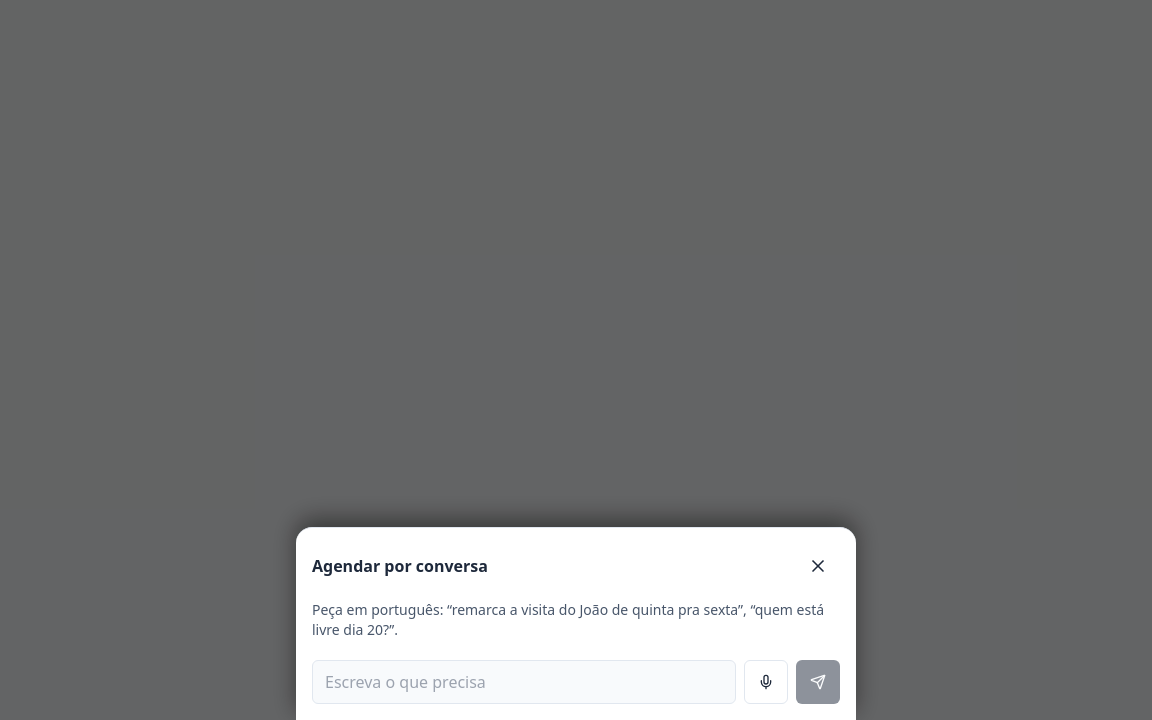
Test case: ChatAgenda › o card mostra o contexto da visita alvo, não só o id
Type "x" into the field with placeholder "Escreva o que precisa". click: coordinates (524, 682)
box: [312,660,736,704]
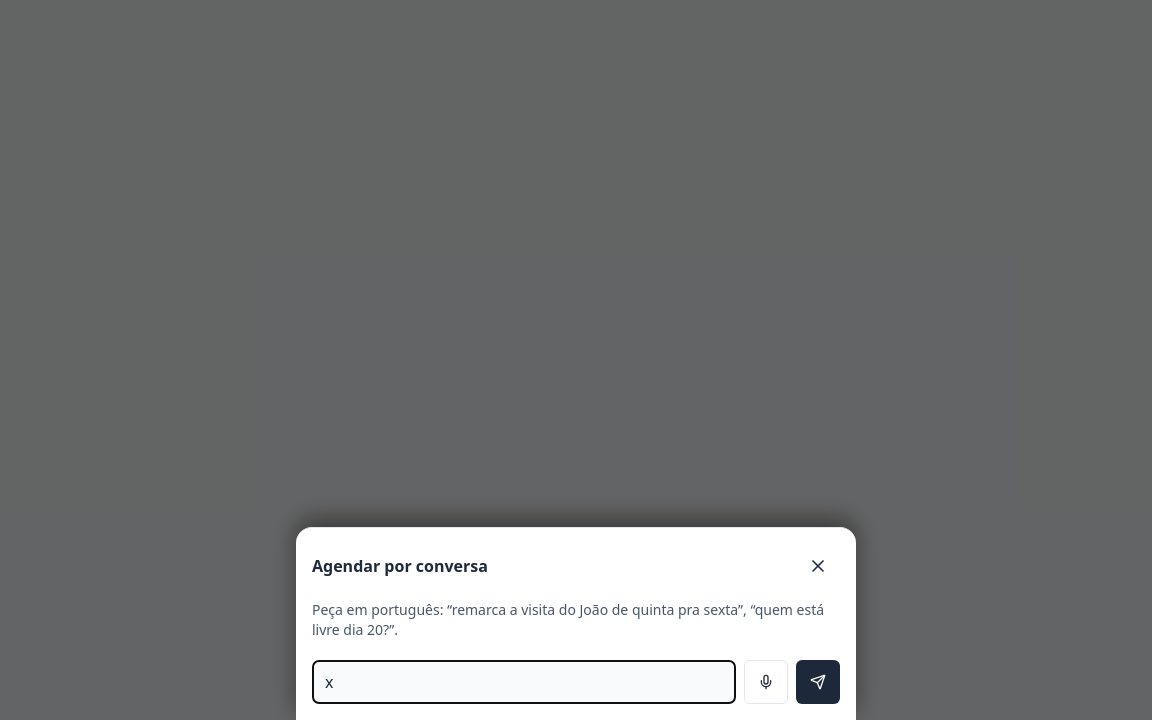
Click the button named "enviar". click: coordinates (818, 682)
box: [796,660,840,704]
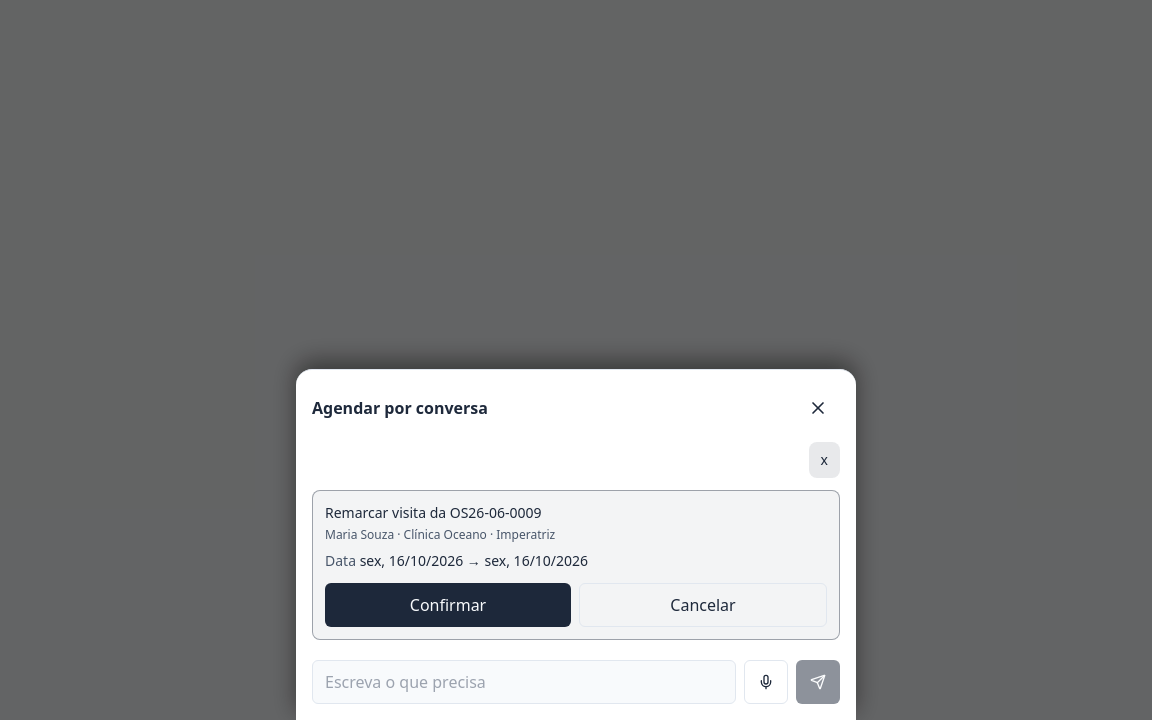
Expected: the text "Remarcar visita da OS26-06-0009" is shown, [325,503,542,522]
Expected: the text "Maria Souza · Clínica Oceano · Imperatriz" is shown, [325,526,555,543]
